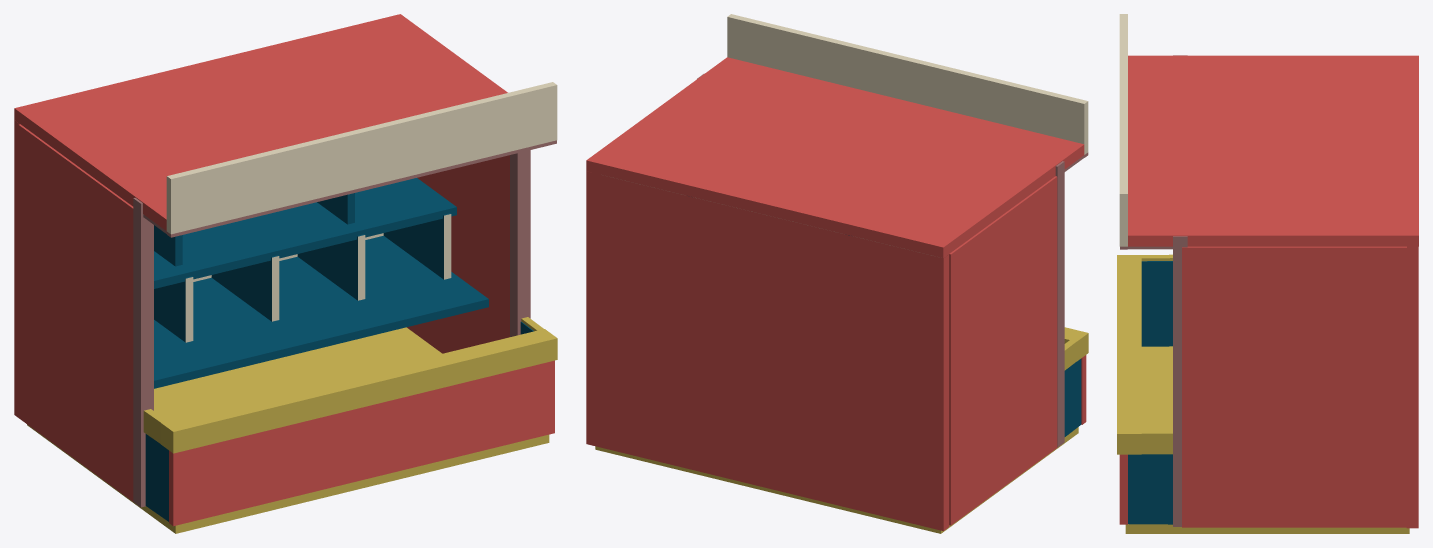
The model's file is BallThrowingStand4.fbx.
The picture shows the model from 3 angles, left to right: view 1: azimuth 30°, elevation 25°; view 2: azimuth 150°, elevation 25°; view 3: azimuth 270°, elevation 25°; orthographic projection. The views are drawn at different scales.
Parts seen in each view (by area): view 1: Roof1, Sidewall2, Frontwalldown4, Frontwalldown, Frontwalldown5, pCube20, pCube10, Pole, pCube14, pCube9; view 2: Roof1, Sidewall2, Pole, pCube20, Frontwalldown, Frontwalldown5; view 3: Sidewall2, Roof1, Frontwalldown, Frontwalldown5, pCube20, Pole.
Part boxes in pixels (<box>): Roof1: <box>14,14,557,417</box>; Sidewall2: <box>18,124,509,501</box>; Frontwalldown4: <box>154,178,488,388</box>; Frontwalldown: <box>145,321,554,526</box>; Frontwalldown5: <box>143,317,557,453</box>; pCube20: <box>27,327,549,533</box>; pCube10: <box>154,213,451,342</box>; Pole: <box>133,150,530,507</box>; pCube14: <box>143,140,556,237</box>; pCube9: <box>154,193,354,266</box>; Roof1: <box>586,14,1088,530</box>; Sidewall2: <box>598,174,1057,525</box>; Pole: <box>697,73,1064,447</box>; pCube20: <box>595,427,1078,533</box>; Frontwalldown: <box>1064,355,1086,436</box>; Frontwalldown5: <box>1064,327,1088,370</box>; Sidewall2: <box>1182,246,1406,527</box>; Roof1: <box>1119,14,1418,528</box>; Frontwalldown: <box>1119,261,1172,524</box>; Frontwalldown5: <box>1117,254,1172,454</box>; pCube20: <box>1125,346,1409,533</box>; Pole: <box>1173,55,1187,526</box>.
Size of the model in its own units: 0.6312 by 0.5538 by 0.4422.
